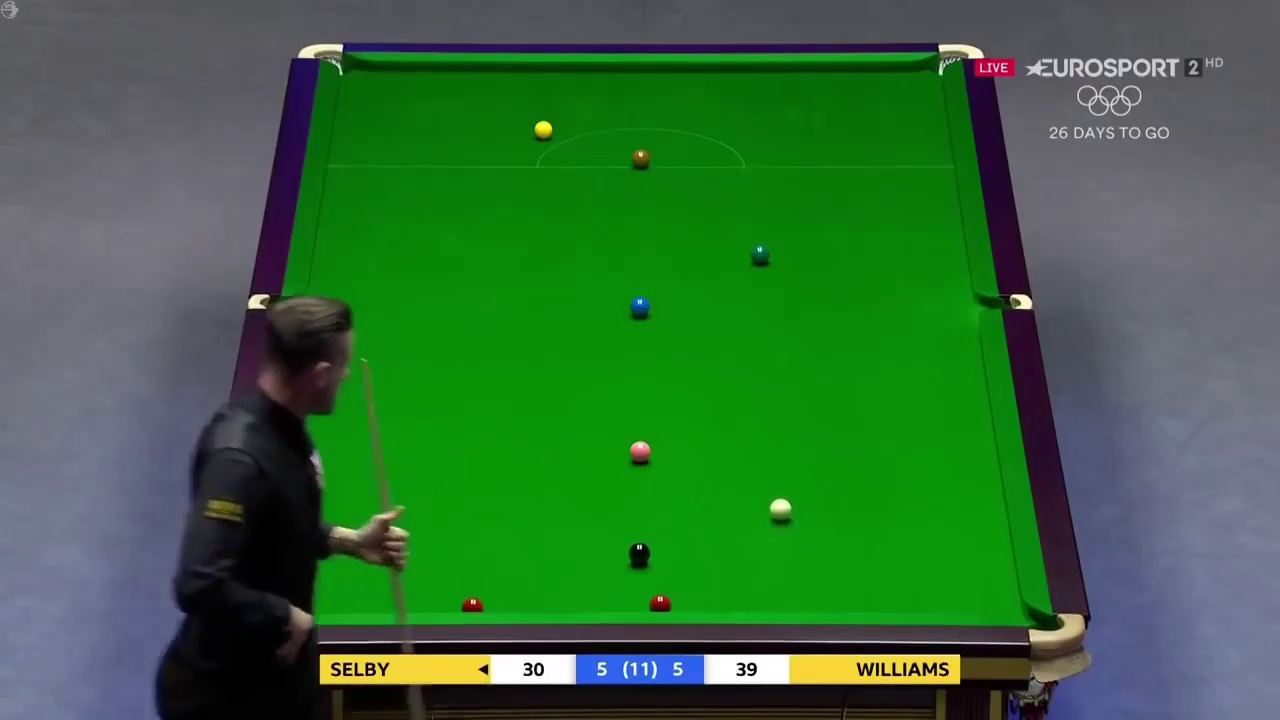ball: (767, 498, 794, 522), (630, 295, 653, 318), (532, 119, 556, 141), (629, 440, 650, 463), (628, 543, 651, 564), (750, 245, 771, 267), (630, 148, 650, 168)
